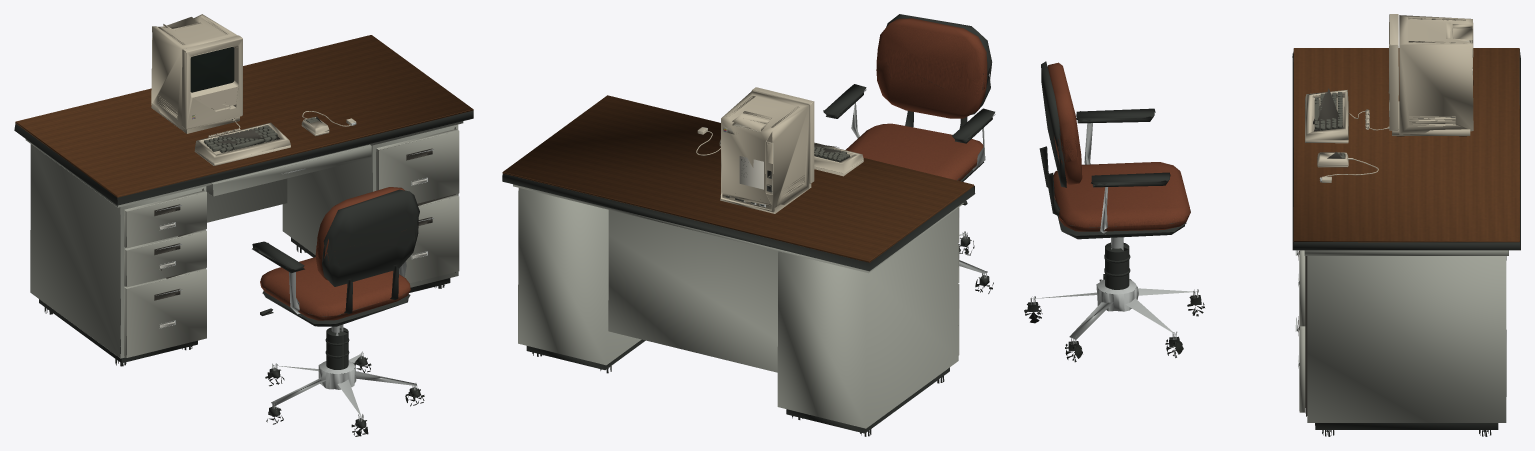
File: bare-workstation-far.glb
3 renders of one model, left to right at view 1: azimuth 30°, elevation 25°; view 2: azimuth 150°, elevation 25°; view 3: azimuth 270°, elevation 25°, orthographic. The views are drawn at different scales.
Visible parts, largest first — view 1: Bare existing workstation 01, Bare existing workstation 02, Bare existing workstation 04, Bare existing workstation 19, Bare existing workstation 18, Bare existing workstation 00, Bare existing workstation 22, Bare existing workstation 23, Bare existing workstation 20, Bare existing workstation 24, Bare existing workstation 07, Bare existing workstation 03 (+3 smaller); view 2: Bare existing workstation 02, Bare existing workstation 01, Bare existing workstation 18, Bare existing workstation 22, Bare existing workstation 00, Bare existing workstation 19, Bare existing workstation 23, Bare existing workstation 07, Bare existing workstation 37, Bare existing workstation 20; view 3: Bare existing workstation 02, Bare existing workstation 01, Bare existing workstation 18, Bare existing workstation 22, Bare existing workstation 19, Bare existing workstation 00, Bare existing workstation 20, Bare existing workstation 07, Bare existing workstation 23, Bare existing workstation 04, Bare existing workstation 10, Bare existing workstation 12 (+3 smaller).
Boxes of the visible parts, x1=… form: Bare existing workstation 01: x1=15, y1=35, x2=473, y2=197; Bare existing workstation 02: x1=25, y1=121, x2=463, y2=358; Bare existing workstation 04: x1=124, y1=129, x2=459, y2=357; Bare existing workstation 19: x1=252, y1=189, x2=420, y2=428; Bare existing workstation 18: x1=260, y1=187, x2=410, y2=320; Bare existing workstation 00: x1=14, y1=110, x2=473, y2=366; Bare existing workstation 22: x1=151, y1=14, x2=239, y2=133; Bare existing workstation 23: x1=182, y1=35, x2=242, y2=129; Bare existing workstation 20: x1=271, y1=261, x2=417, y2=421; Bare existing workstation 24: x1=190, y1=47, x2=234, y2=92; Bare existing workstation 07: x1=194, y1=118, x2=290, y2=165; Bare existing workstation 03: x1=154, y1=127, x2=455, y2=300; Bare existing workstation 02: x1=513, y1=184, x2=963, y2=428; Bare existing workstation 01: x1=502, y1=95, x2=974, y2=262; Bare existing workstation 18: x1=845, y1=18, x2=987, y2=180; Bare existing workstation 22: x1=720, y1=91, x2=811, y2=213; Bare existing workstation 00: x1=502, y1=173, x2=975, y2=436; Bare existing workstation 19: x1=823, y1=14, x2=995, y2=285; Bare existing workstation 23: x1=730, y1=87, x2=814, y2=183; Bare existing workstation 07: x1=814, y1=142, x2=863, y2=176; Bare existing workstation 37: x1=739, y1=156, x2=763, y2=189; Bare existing workstation 20: x1=851, y1=102, x2=987, y2=278; Bare existing workstation 02: x1=1304, y1=250, x2=1508, y2=422; Bare existing workstation 01: x1=1293, y1=48, x2=1519, y2=242; Bare existing workstation 18: x1=1047, y1=62, x2=1190, y2=231; Bare existing workstation 22: x1=1392, y1=15, x2=1473, y2=135; Bare existing workstation 19: x1=1027, y1=61, x2=1201, y2=351; Bare existing workstation 00: x1=1292, y1=49, x2=1520, y2=436; Bare existing workstation 20: x1=1030, y1=123, x2=1198, y2=344; Bare existing workstation 07: x1=1305, y1=90, x2=1389, y2=143; Bare existing workstation 23: x1=1389, y1=14, x2=1398, y2=130; Bare existing workstation 04: x1=1299, y1=250, x2=1305, y2=412; Bare existing workstation 10: x1=1314, y1=92, x2=1342, y2=130; Bare existing workstation 12: x1=1317, y1=152, x2=1378, y2=182.
Size of the model in its own units: 1.52 by 1.09 by 1.65.
Materials: 39 (2 with a texture image).
